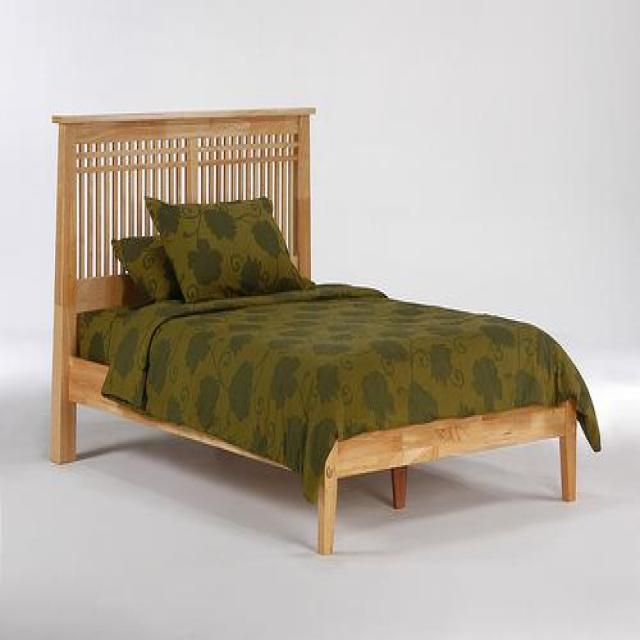bed: (49, 106, 600, 554)
